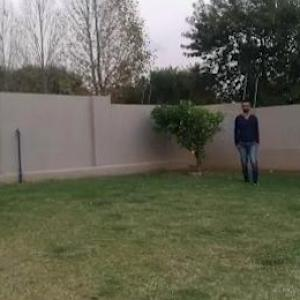follow: (238, 95, 260, 188)
